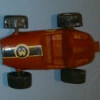rojo_oeste: (2, 14, 98, 87)
